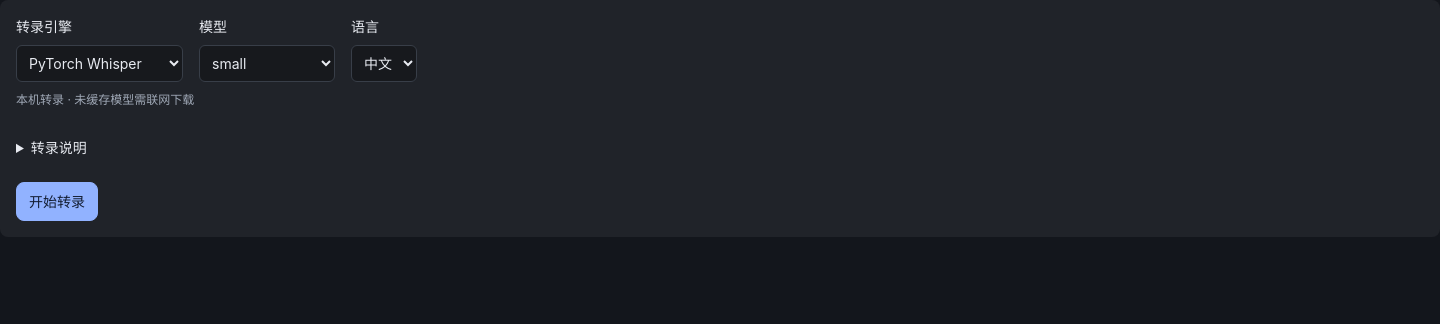
Test: 选择模型语言并提交注册素材，不发送路径
The image size is (1440, 324).
Select "英文" in the dropdown labelled "语言" at point(384, 64), box [351,45,417,82]
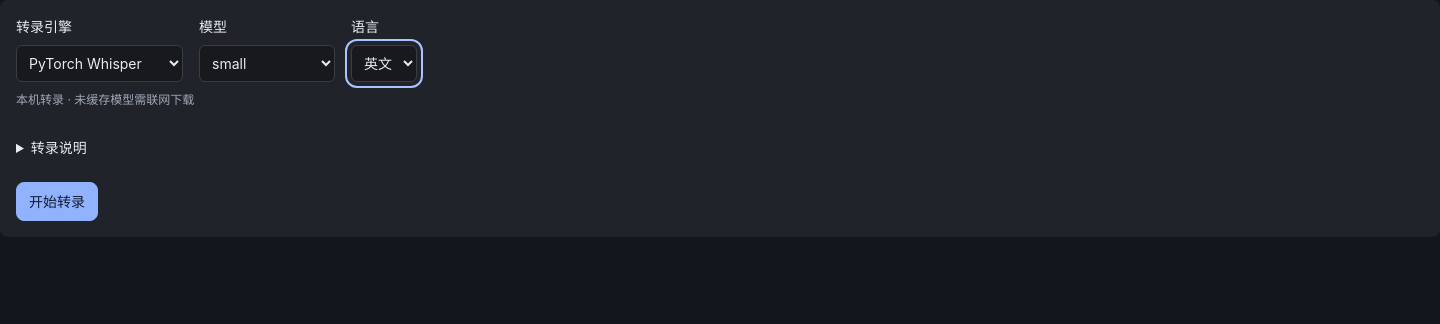
Click the button "开始转录" at point(57, 202), box [16,182,98,221]
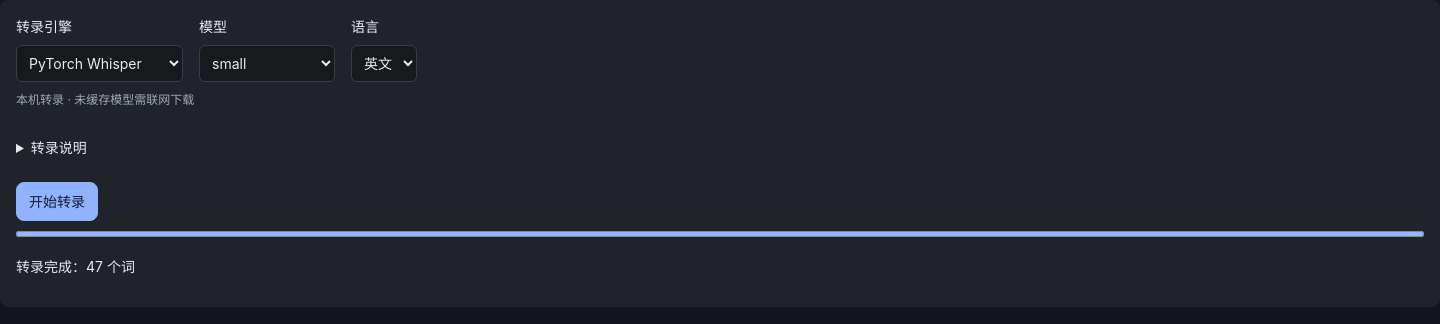
Check: the text "转录完成：47 个词" is shown, box [16,258,135,275]
